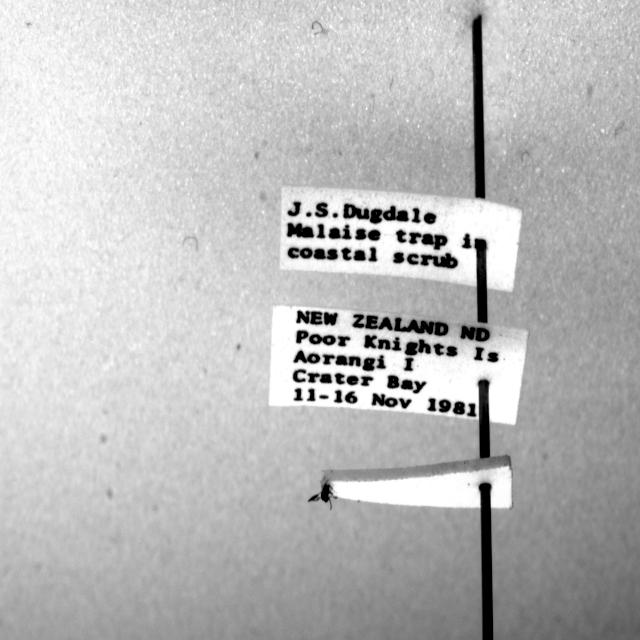typed_label: (269, 306, 528, 424), (280, 186, 521, 291)
